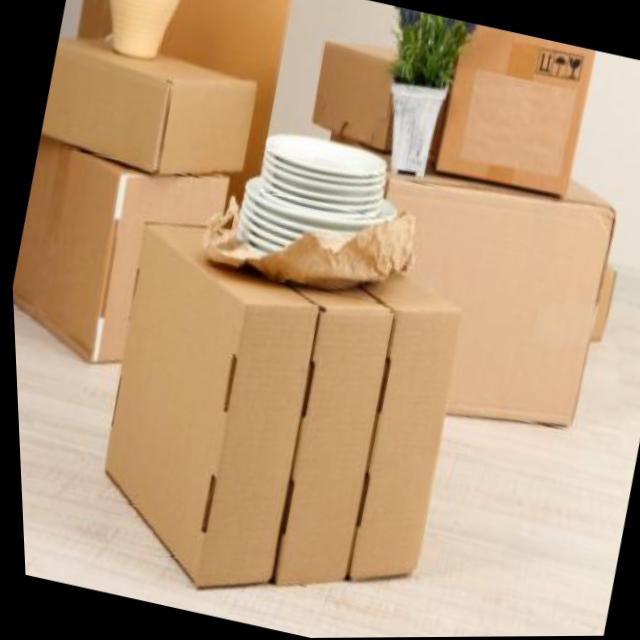box: (53, 207, 497, 640), (317, 140, 640, 477), (4, 121, 250, 436), (27, 5, 275, 214), (419, 20, 629, 226)
